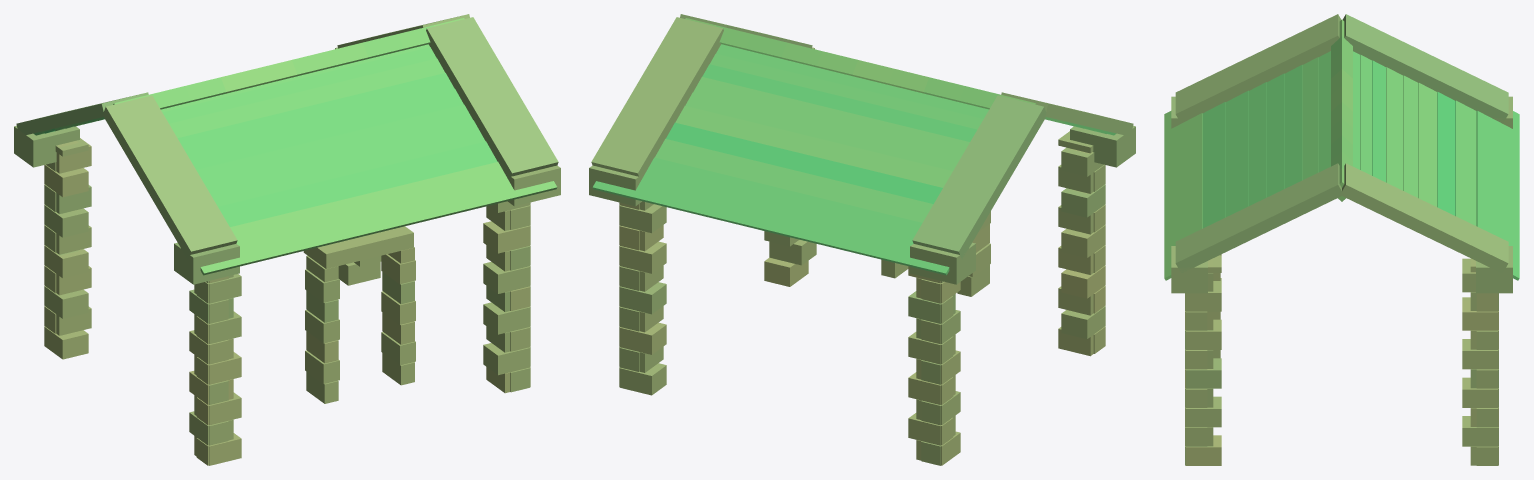
File: SM_Bld_246_Stone.glb
The picture shows the model from 3 angles, left to right: view 1: azimuth 30°, elevation 25°; view 2: azimuth 150°, elevation 25°; view 3: azimuth 270°, elevation 25°; orthographic projection. The views are drawn at different scales.
Visible parts, largest first — view 1: SM_Bld_246_Stone; view 2: SM_Bld_246_Stone; view 3: SM_Bld_246_Stone.
Boxes of the visible parts, left/top/right/bottom form: SM_Bld_246_Stone: left=14, top=14, right=560, bottom=465; SM_Bld_246_Stone: left=589, top=14, right=1135, bottom=465; SM_Bld_246_Stone: left=1164, top=14, right=1519, bottom=465.
Bounding box in the file's own units: 5.69 × 4.53 × 5.
